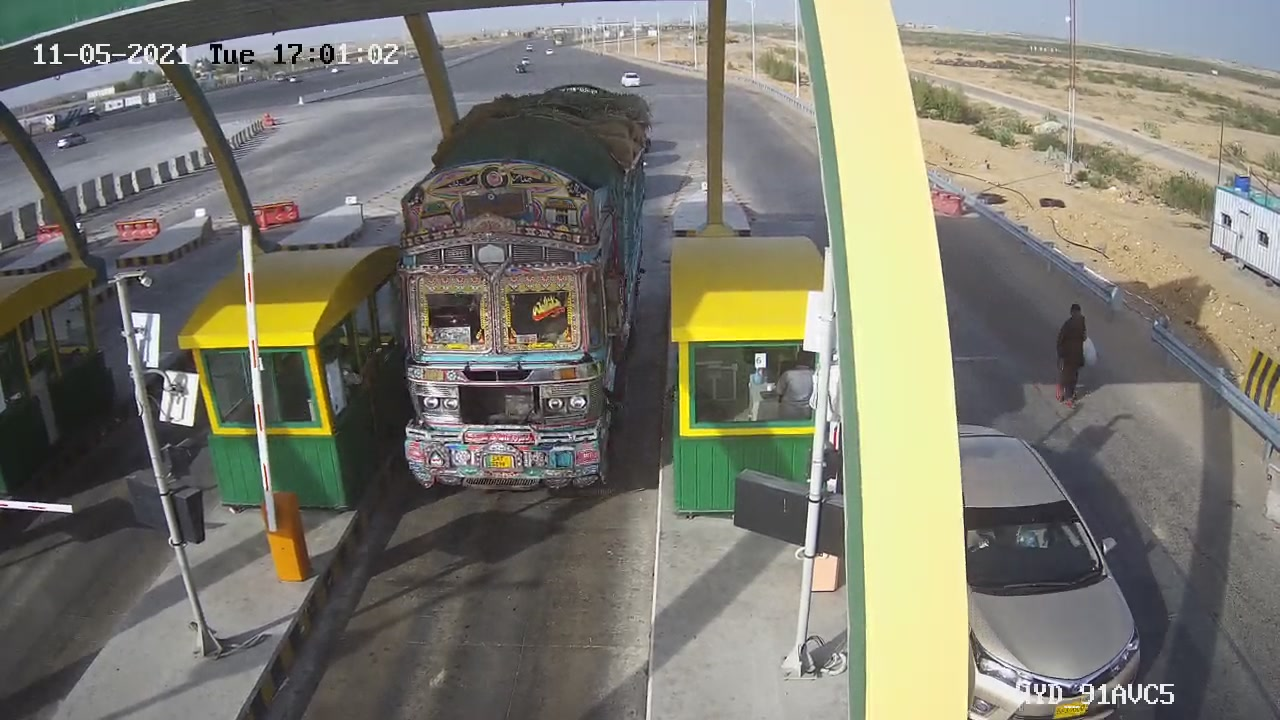F5: (381, 73, 664, 518)
